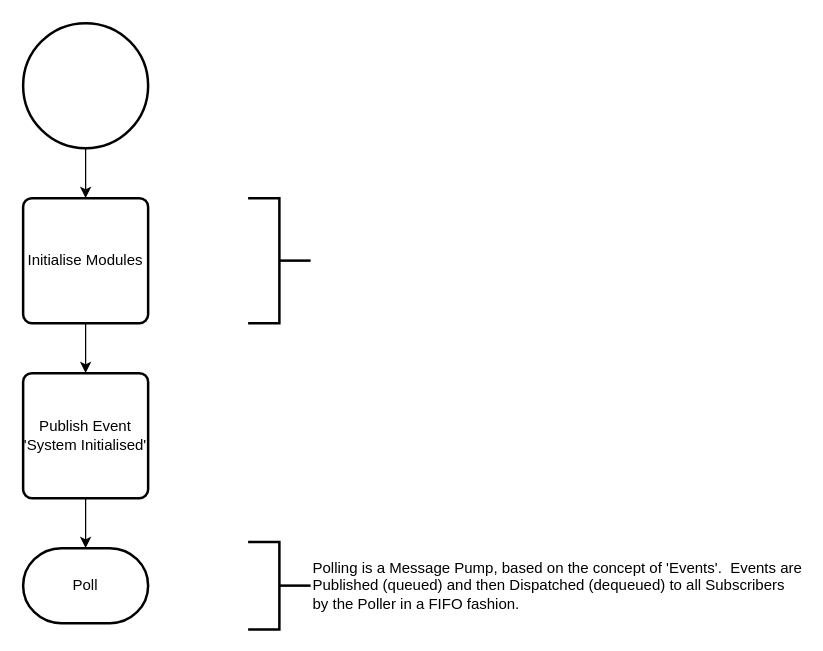
This 823x651 diagram has some shape labels left out. Each missing label, with the box of its shape:
Power On: (21, 21, 149, 149)
Statically compiled list of function calls, one for each module.: (246, 196, 311, 324)
